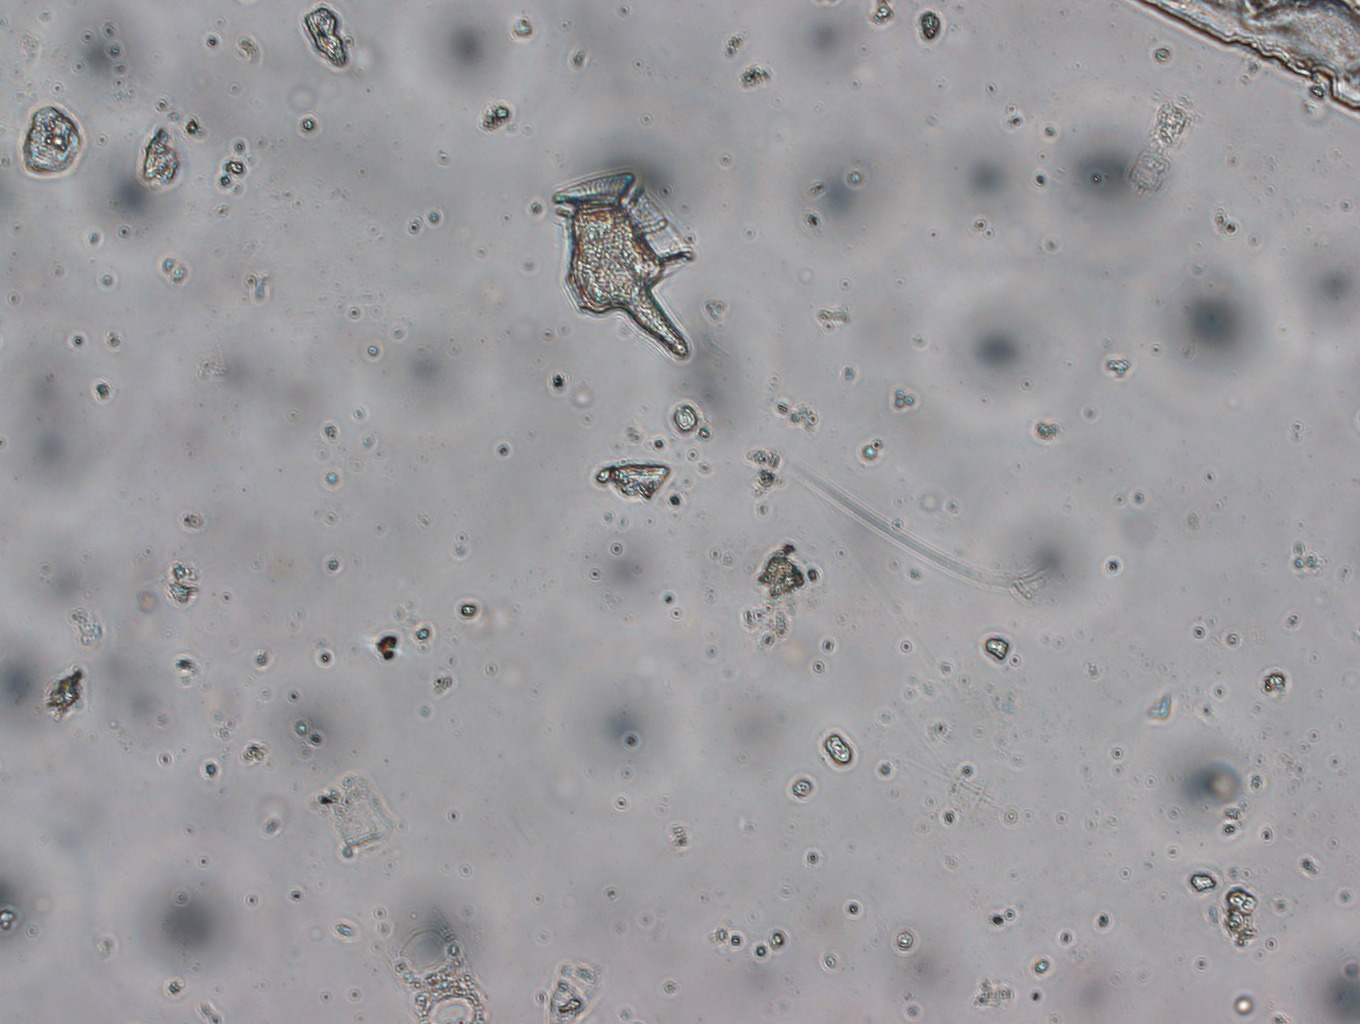dinophysis caudata: (539, 160, 704, 375)
